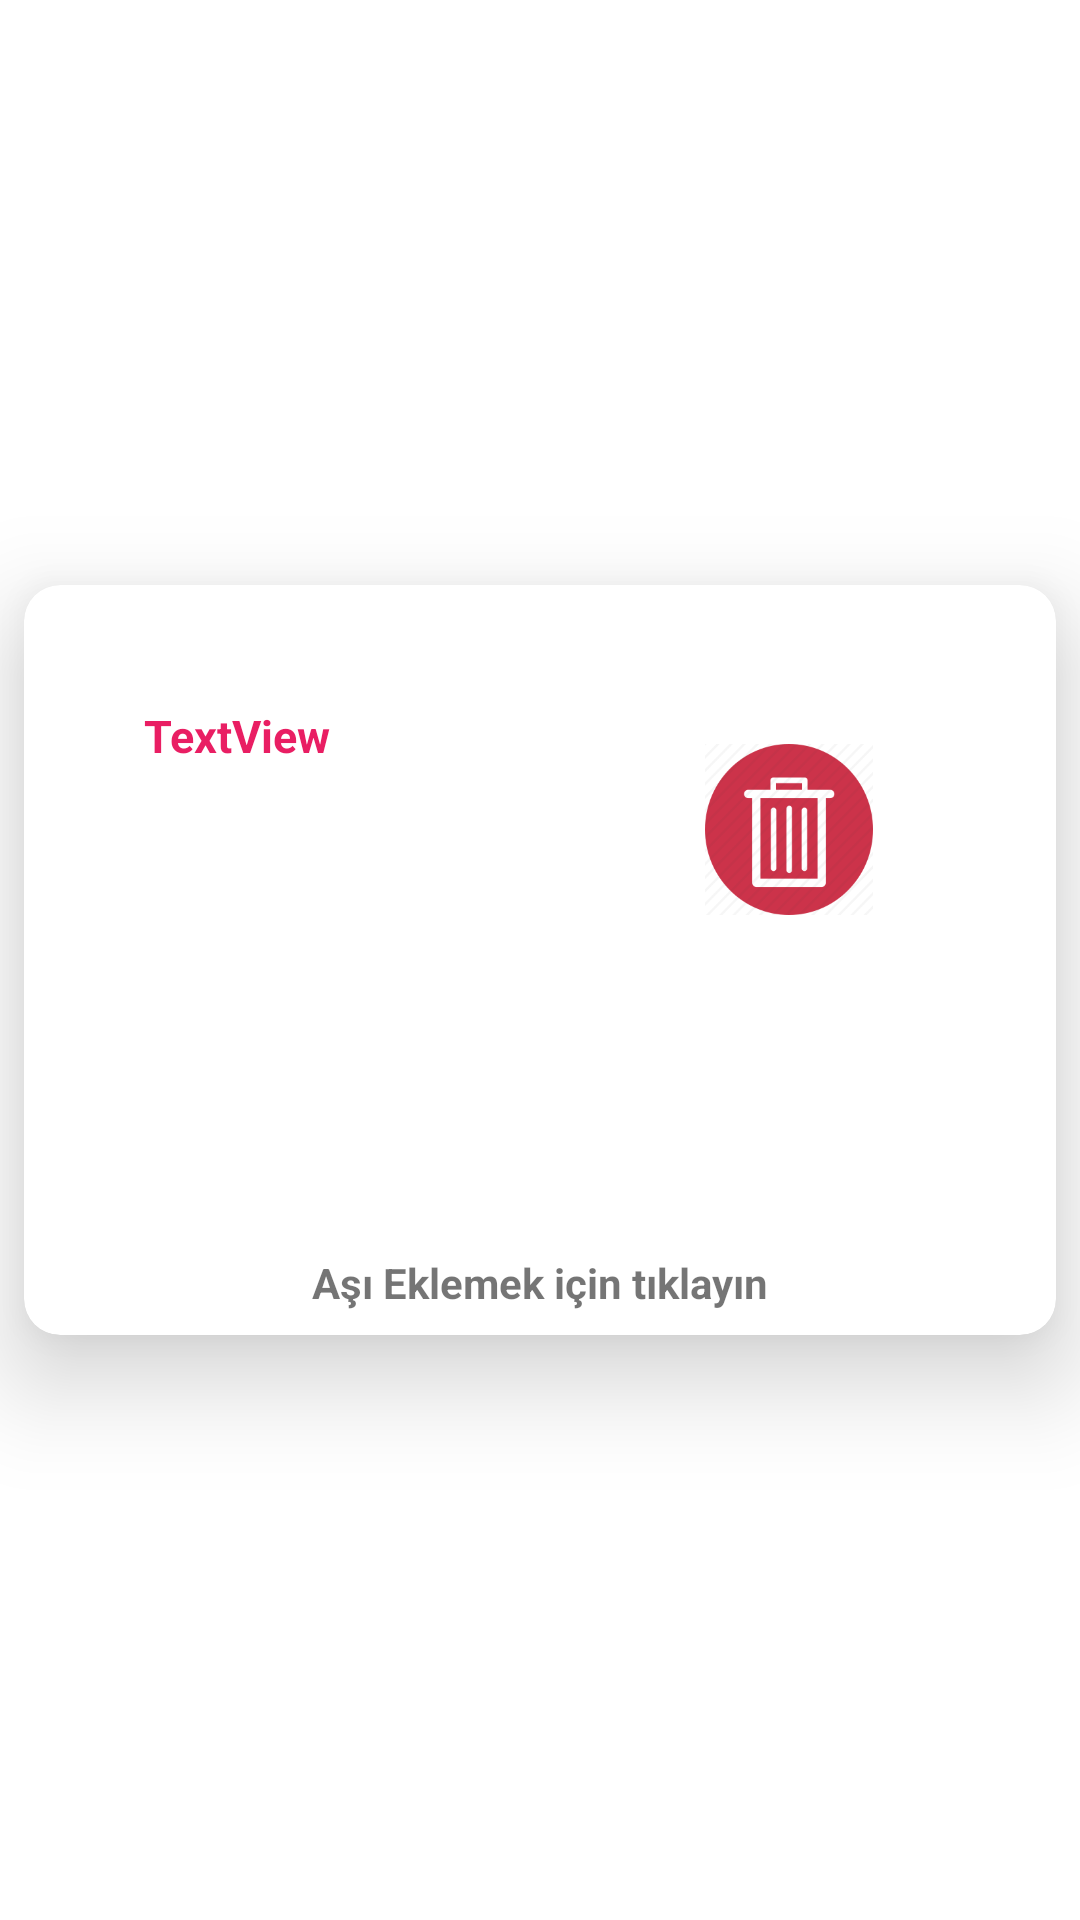

Where icons sit on this 1080 x 1920 app screen, as (x1, y1, x2, y2):
delete: (705, 744, 873, 915)
